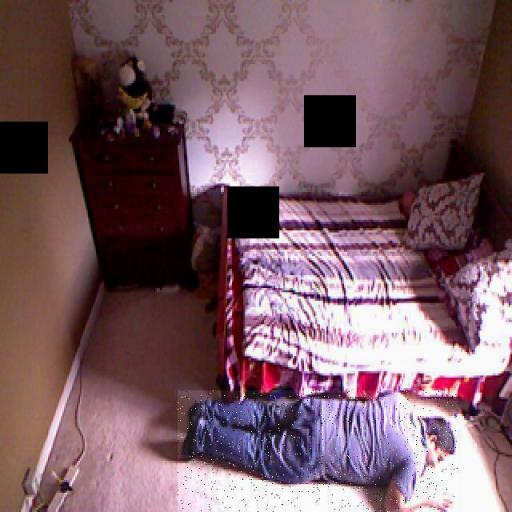Fall: (178, 390, 458, 512)
